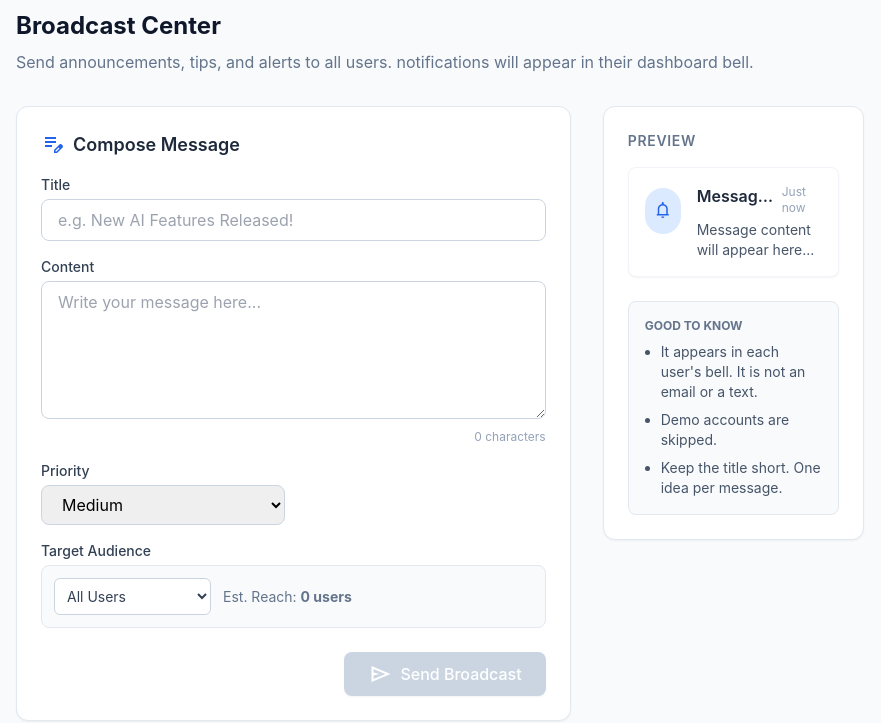
Test: AdminBroadcastPage › sends once you confirm and shows how many got it
Type "Hello" into the field with placeholder "e.g. New AI Features Released!" at [293, 220], box [41,199,546,241]
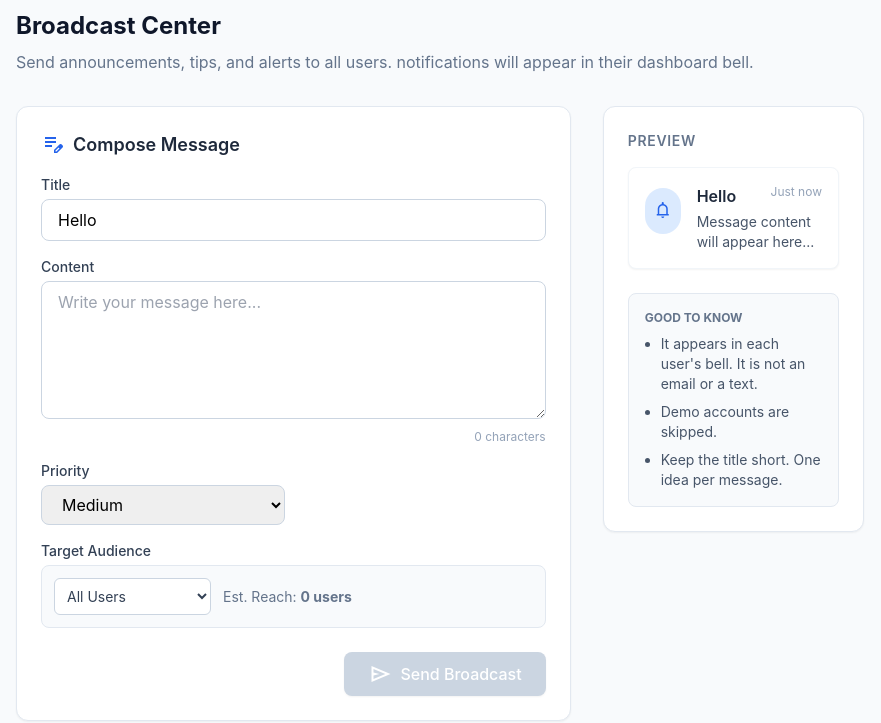
Type "World" into the text box with placeholder "Write your message here..." at [293, 350], box [41,281,546,419]
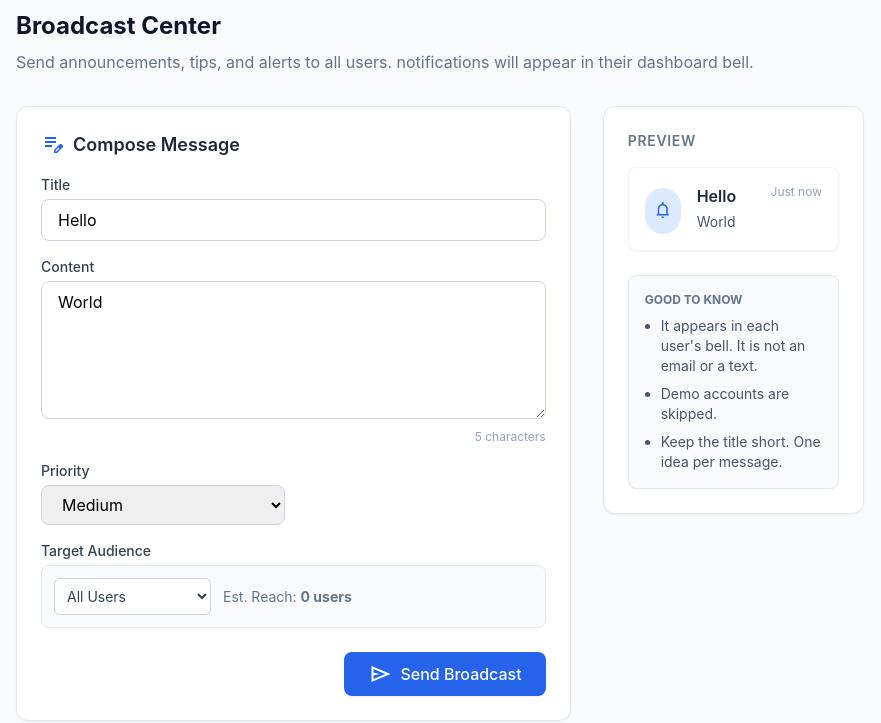
Click the button "Send Broadcast" at [445, 674], box [344,652,546,696]
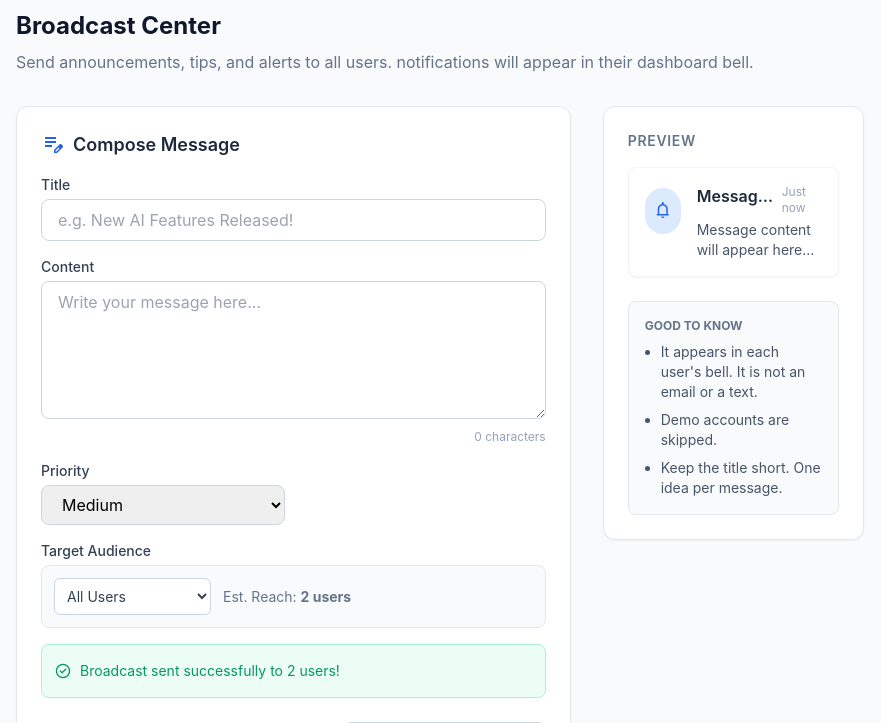
Now the text "Broadcast sent successfully to 2 users!" is shown, box [41,644,546,698]
